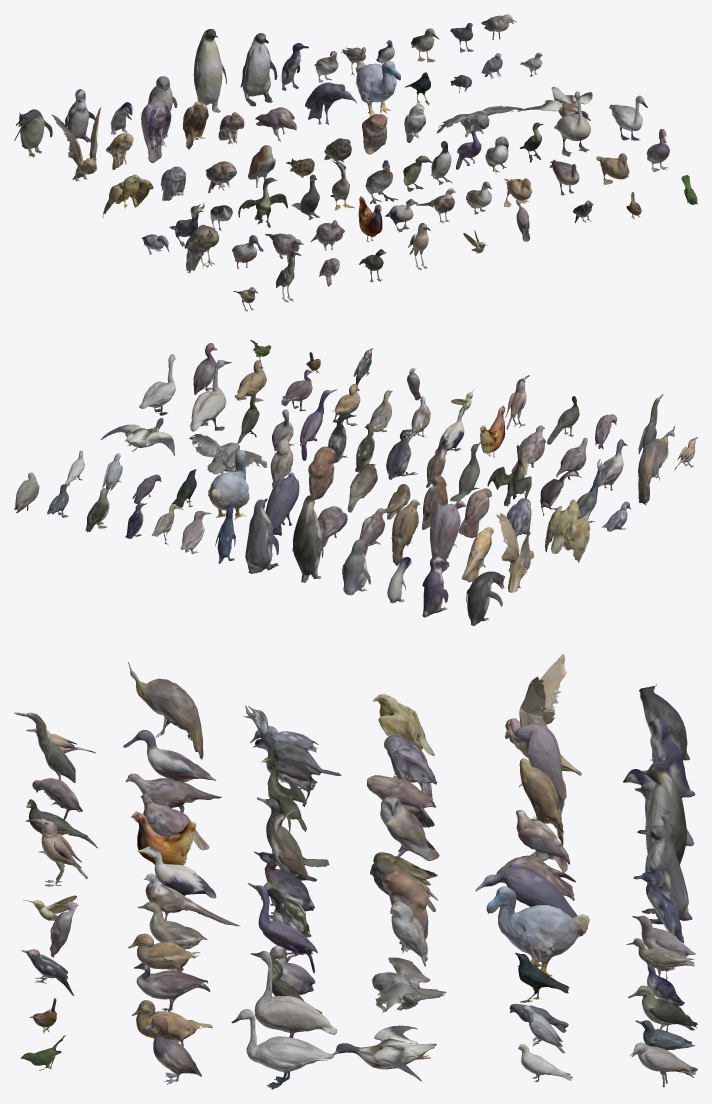
File: lowpoly_birds.glb
The picture shows the model from 3 angles, top to bottom: view 1: azimuth 30°, elevation 25°; view 2: azimuth 150°, elevation 25°; view 3: azimuth 270°, elevation 25°; orthographic projection. The views are drawn at different scales.
Parts seen in each view (by area): view 1: ping_imp_lowpoly, ping_gumb_lowpoly, dodo_lowpoly, turkeyvulture_lowpoly, smhornedowl_75k_lowpoly, blackvulture_lowpoly, pav_lowpoly, ping_lowpoly, merikotka_lowpoly, tundraswan_lowpoly, nejasyt_lowpoly, default.002_lowpoly (+37 smaller); view 2: ping_imp_lowpoly, merikotka_lowpoly, ping_gumb_lowpoly, dodo_lowpoly, turkeyvulture_lowpoly, nejasyt_lowpoly, smhornedowl_75k_lowpoly, pav_lowpoly, blackvulture_lowpoly, ping_lowpoly, tundraswan_lowpoly, horniman-eagle-edit_lowpoly (+47 smaller); view 3: dodo_lowpoly, tundraswan_lowpoly, leb_mal_lowpoly, pav_lowpoly, ping_gumb_lowpoly, ping_imp_lowpoly, default.002_lowpoly, nejasyt_lowpoly, blackvulture_lowpoly, turkeyvulture_lowpoly, smhornedowl_75k_lowpoly, commonbarnowl_lowpoly (+46 smaller).
Boxes of the visible parts, x1,y1,x2,y2 form: ping_imp_lowpoly: [193, 29, 226, 112]; ping_gumb_lowpoly: [240, 33, 277, 106]; dodo_lowpoly: [355, 60, 400, 116]; turkeyvulture_lowpoly: [141, 100, 171, 163]; smhornedowl_75k_lowpoly: [51, 107, 101, 181]; blackvulture_lowpoly: [305, 82, 356, 124]; pav_lowpoly: [184, 224, 219, 273]; ping_lowpoly: [14, 109, 52, 157]; merikotka_lowpoly: [102, 174, 153, 217]; tundraswan_lowpoly: [554, 91, 590, 156]; nejasyt_lowpoly: [436, 105, 526, 137]; default.002_lowpoly: [517, 86, 592, 120]; ping_imp_lowpoly: [292, 494, 323, 582]; merikotka_lowpoly: [545, 499, 590, 562]; ping_gumb_lowpoly: [245, 498, 278, 573]; dodo_lowpoly: [208, 450, 249, 519]; turkeyvulture_lowpoly: [430, 500, 467, 572]; nejasyt_lowpoly: [189, 434, 267, 474]; smhornedowl_75k_lowpoly: [496, 513, 534, 592]; pav_lowpoly: [638, 425, 675, 505]; blackvulture_lowpoly: [265, 472, 299, 535]; ping_lowpoly: [466, 571, 505, 625]; tundraswan_lowpoly: [190, 360, 231, 431]; horniman-eagle-edit_lowpoly: [391, 499, 419, 566]; dodo_lowpoly: [486, 886, 589, 976]; tundraswan_lowpoly: [250, 950, 336, 1037]; leb_mal_lowpoly: [231, 1009, 334, 1089]; pav_lowpoly: [128, 662, 203, 759]; ping_gumb_lowpoly: [637, 825, 692, 924]; ping_imp_lowpoly: [637, 767, 686, 864]; default.002_lowpoly: [332, 1025, 436, 1081]; nejasyt_lowpoly: [372, 957, 446, 1012]; blackvulture_lowpoly: [475, 863, 577, 917]; turkeyvulture_lowpoly: [508, 719, 566, 814]; smhornedowl_75k_lowpoly: [505, 654, 566, 744]; commonbarnowl_lowpoly: [380, 796, 439, 860].
Bounding box in the file's own units: 11.26 × 1.8 × 9.49.
